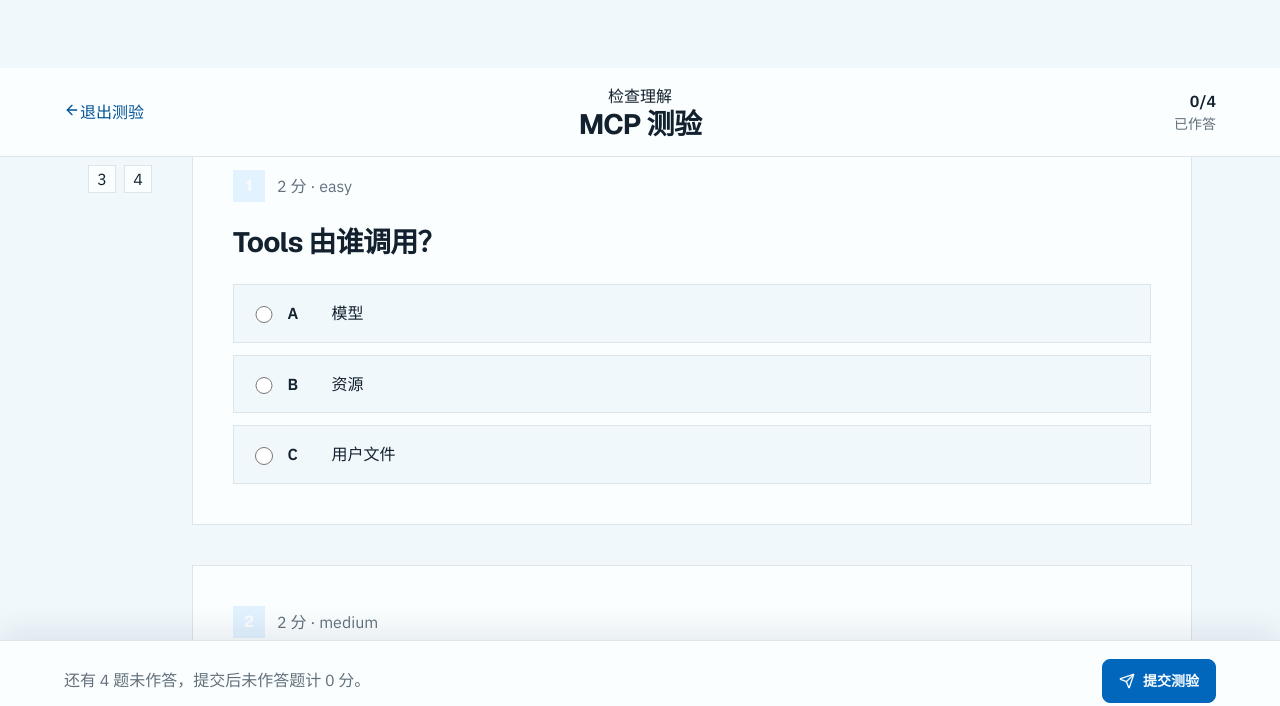
学习活动 V4 › 答题页支持四类题型、保存和未作答提交确认
Step 1. Click the radio button labelled "A 模型" → (264, 315), box [255, 306, 273, 323]
(page scrolled)
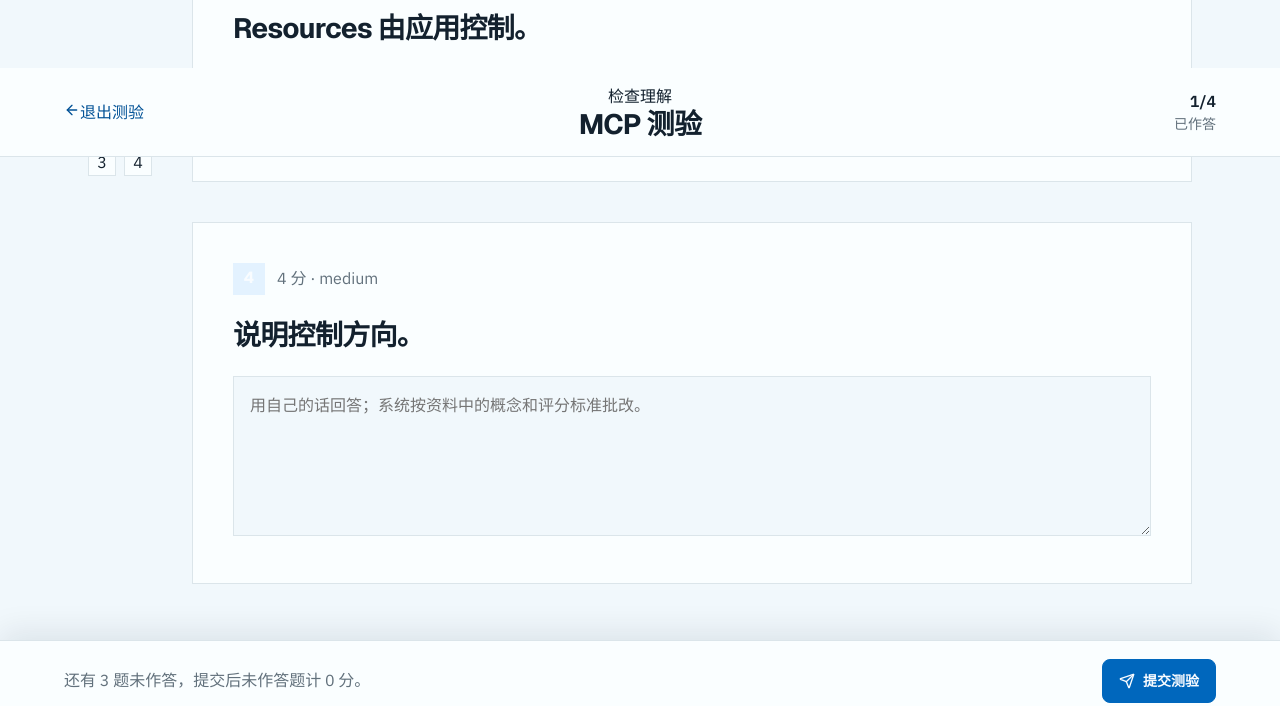
Step 2. Type "模型调用，应用控制。" into the text box named "第 4 题简答" → (692, 456), box [233, 376, 1151, 536]
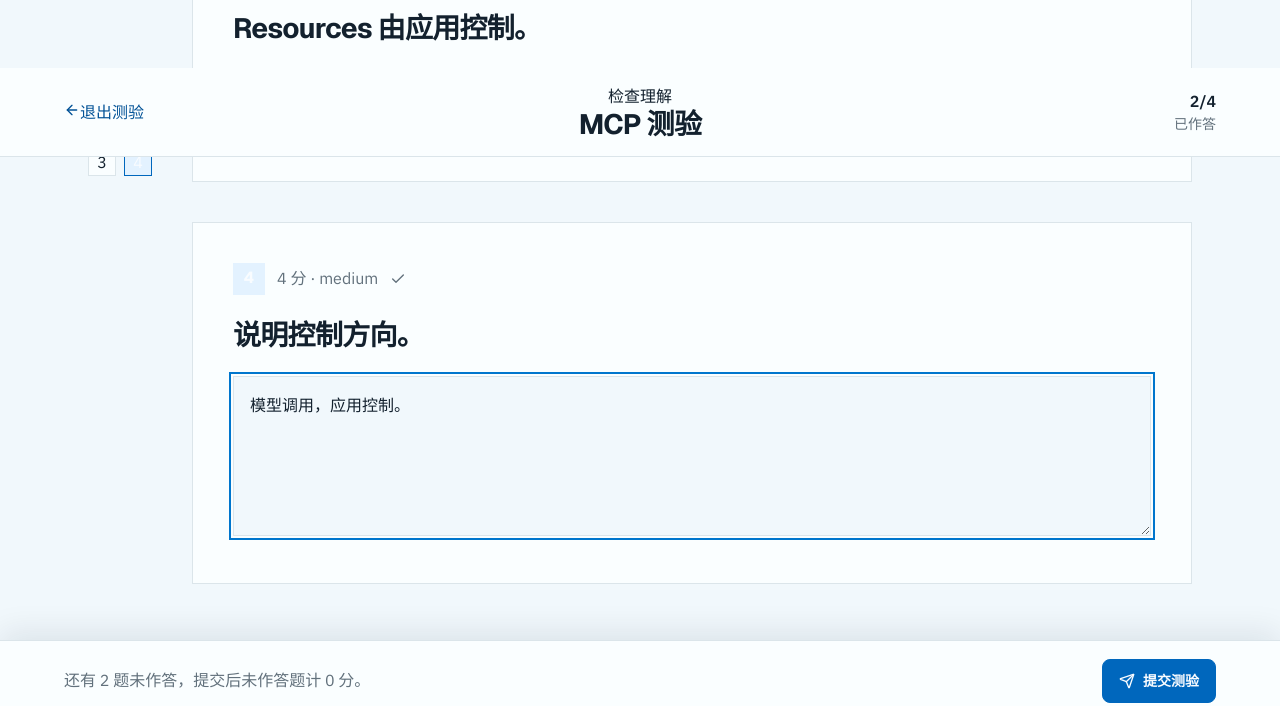
Step 3. Click the button "提交测验" → (1159, 680), box [1102, 658, 1216, 702]
(page scrolled)
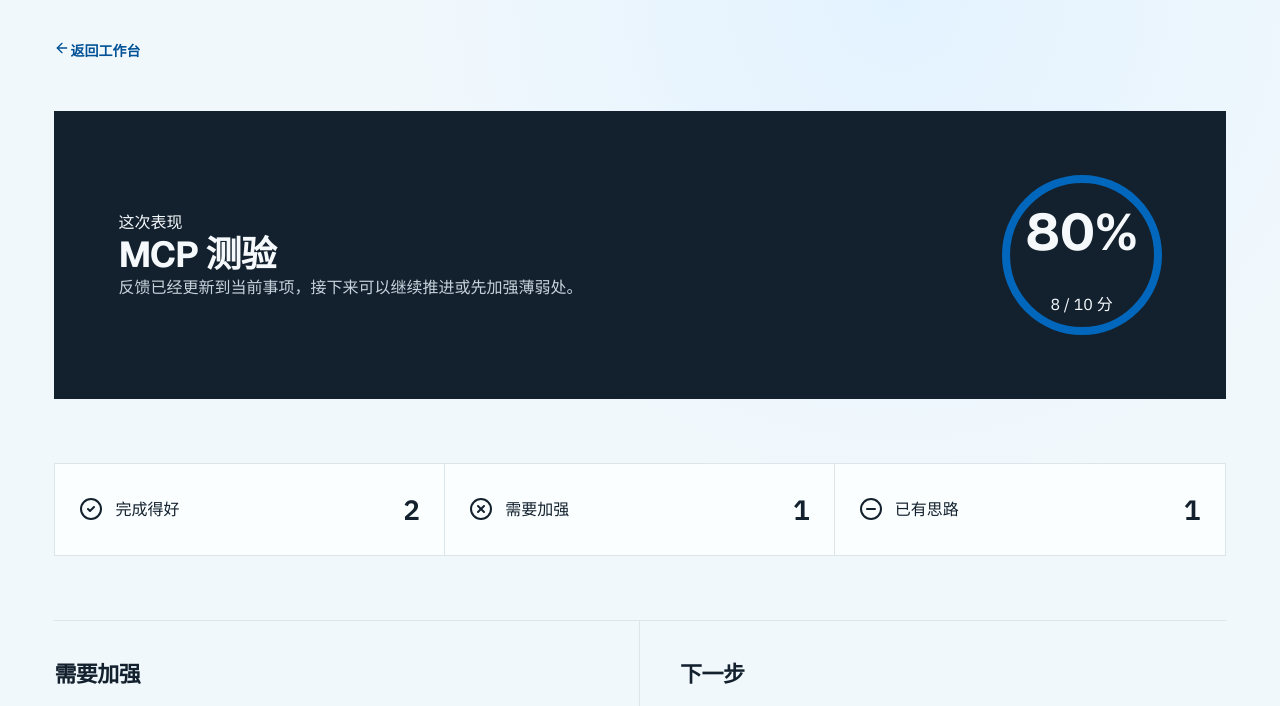
Check: the text "80%" is shown, box [1026, 193, 1138, 272]
